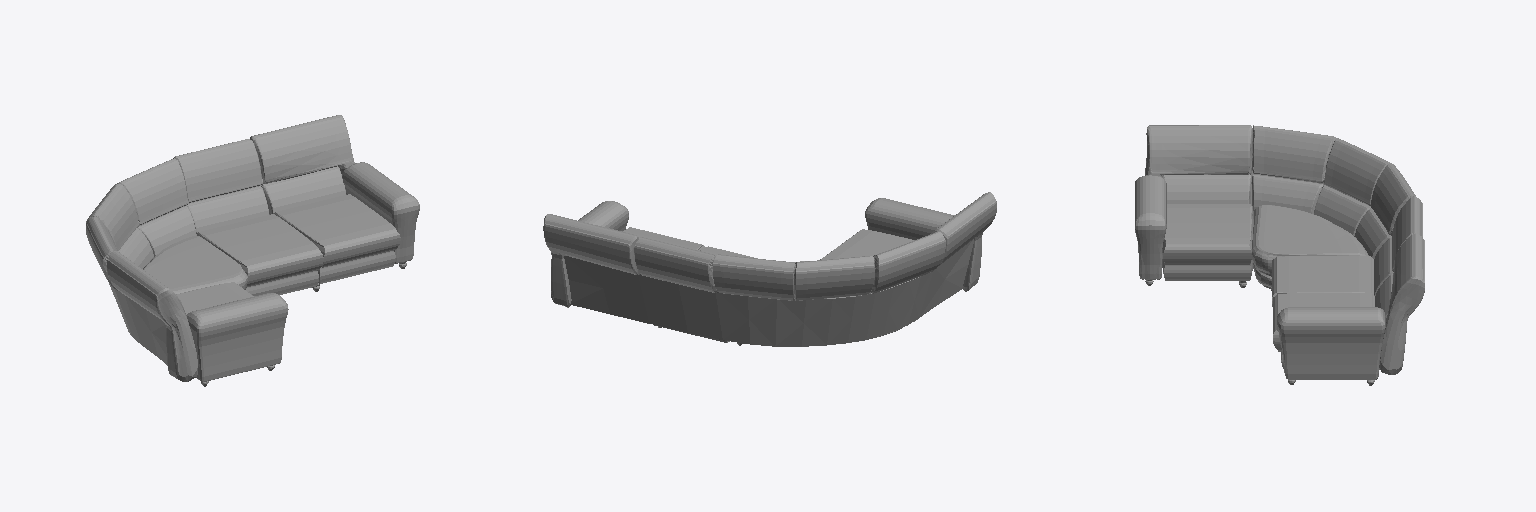
The model's file is sophie.obj.
The picture shows the model from 3 angles: view 1: azimuth 30°, elevation 25°; view 2: azimuth 150°, elevation 25°; view 3: azimuth 270°, elevation 25°; orthographic projection.
Visible parts, largest first — view 1: Cube.012; view 2: Cube.012; view 3: Cube.012.
Boxes of the visible parts, box(x1,y1,x2,y2) form: Cube.012: box(86, 115, 419, 381); Cube.012: box(543, 192, 996, 346); Cube.012: box(1135, 125, 1424, 379).
Bounding box in the file's own units: 6.31 × 1.98 × 4.81.